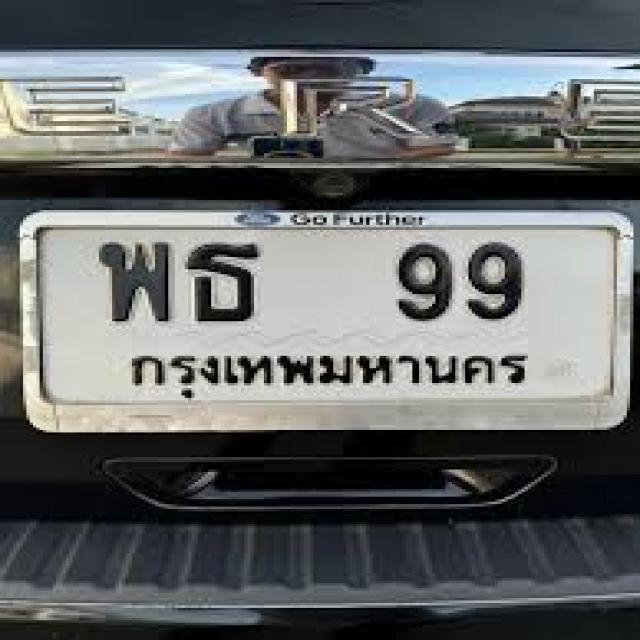license_plate: (17, 218, 624, 412)
